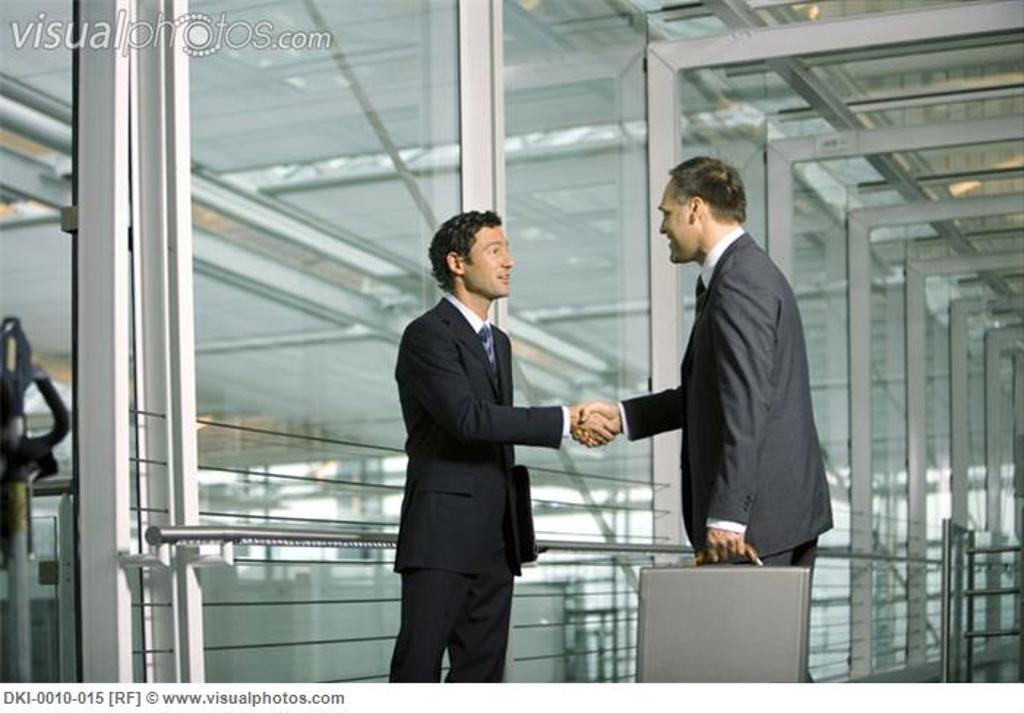face: (657, 190, 701, 262), (463, 233, 513, 296)
